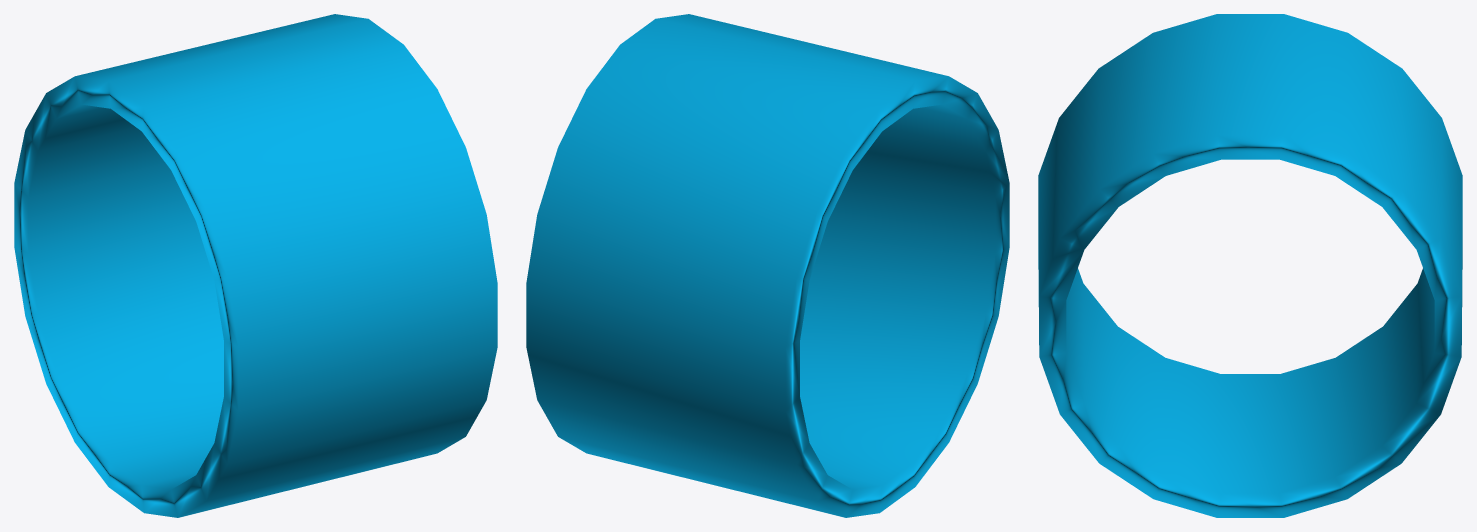
The model's file is Washing_Machine_Basket_Lod2.fbx.
3 renders of one model, left to right at view 1: azimuth 30°, elevation 25°; view 2: azimuth 150°, elevation 25°; view 3: azimuth 270°, elevation 25°, orthographic. The views are drawn at different scales.
Parts seen in each view (by area): view 1: Washing_Machine_Basket_Lod2; view 2: Washing_Machine_Basket_Lod2; view 3: Washing_Machine_Basket_Lod2.
Boxes of the visible parts, x1,y1,x2,y2 form: Washing_Machine_Basket_Lod2: (14, 14, 497, 517); Washing_Machine_Basket_Lod2: (526, 14, 1009, 517); Washing_Machine_Basket_Lod2: (1038, 14, 1462, 517).
Size of the model in its own units: 22.84 by 34.1 by 34.1.
